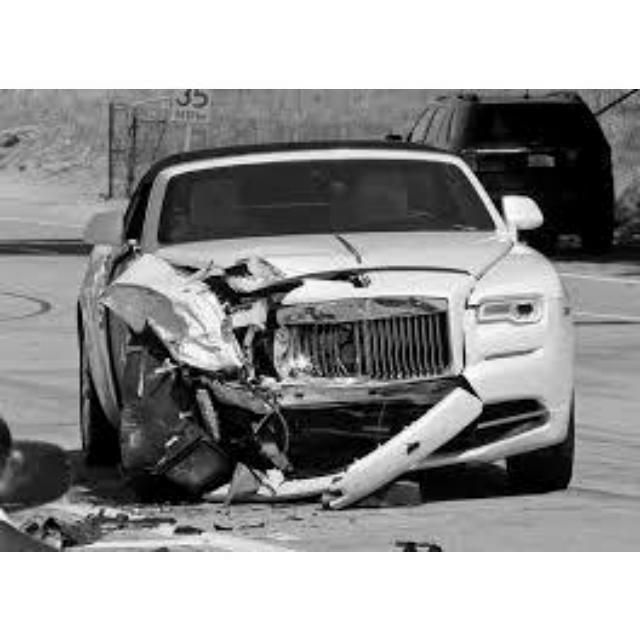bonnet-dent: (184, 231, 380, 289)
fender-dent: (100, 255, 216, 359)
front-bumper-dent: (170, 387, 516, 464)
